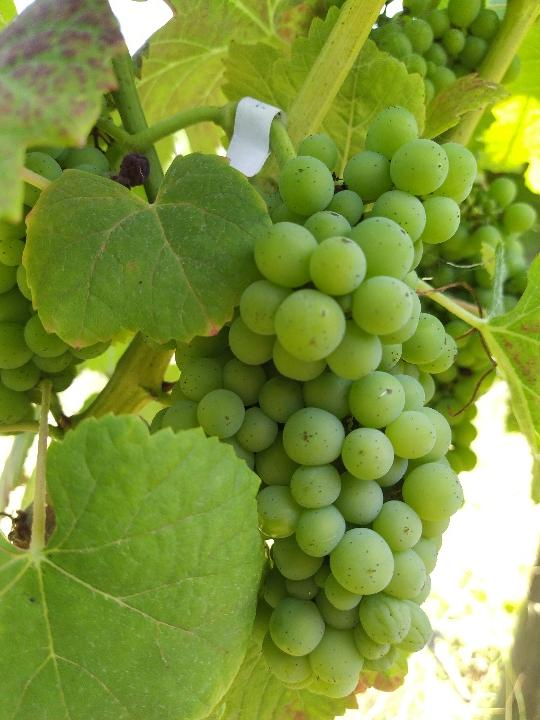grape: (150, 103, 477, 704)
